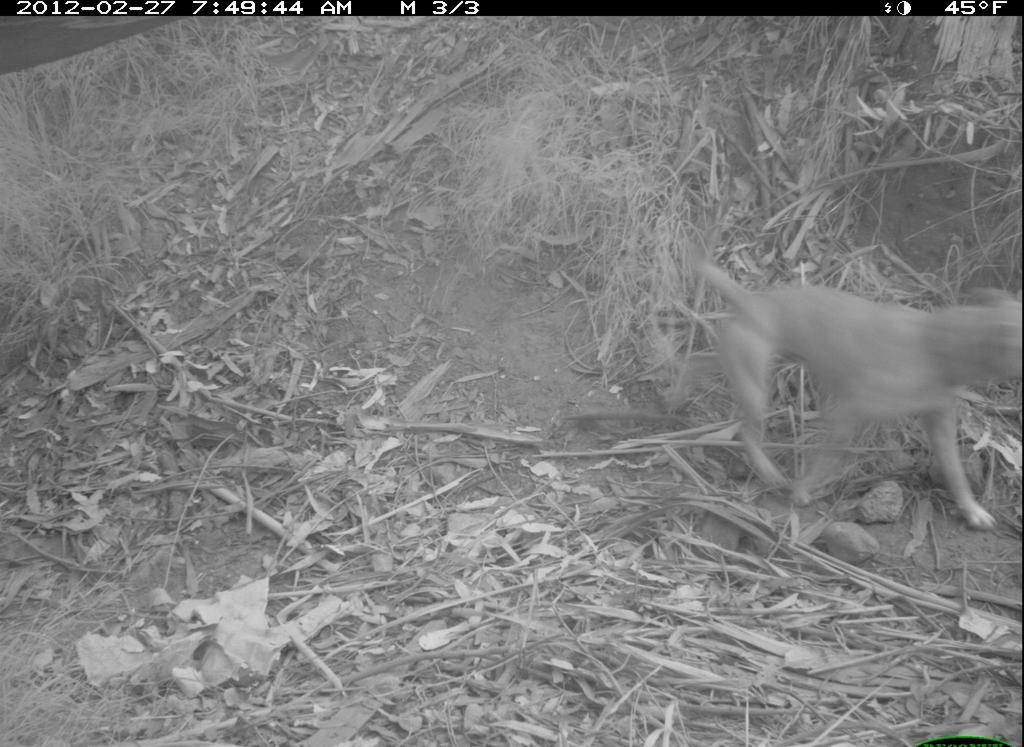dog: (680, 244, 1022, 539)
